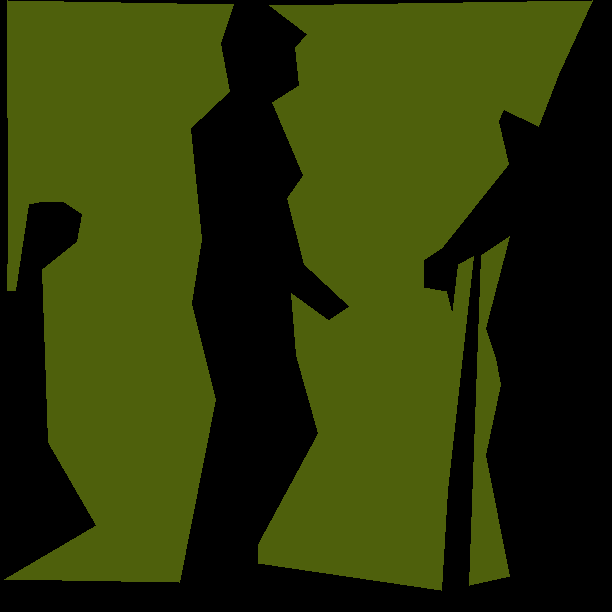Train: (4, 0, 593, 590)
